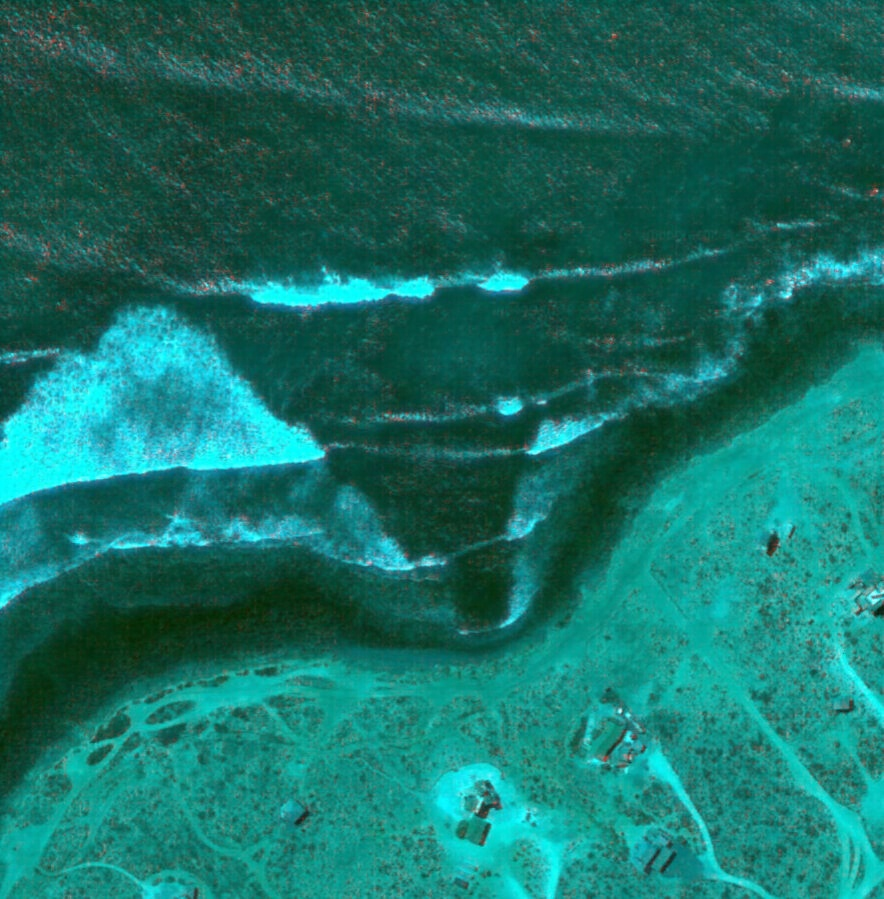rip_current: (228, 253, 615, 618)
